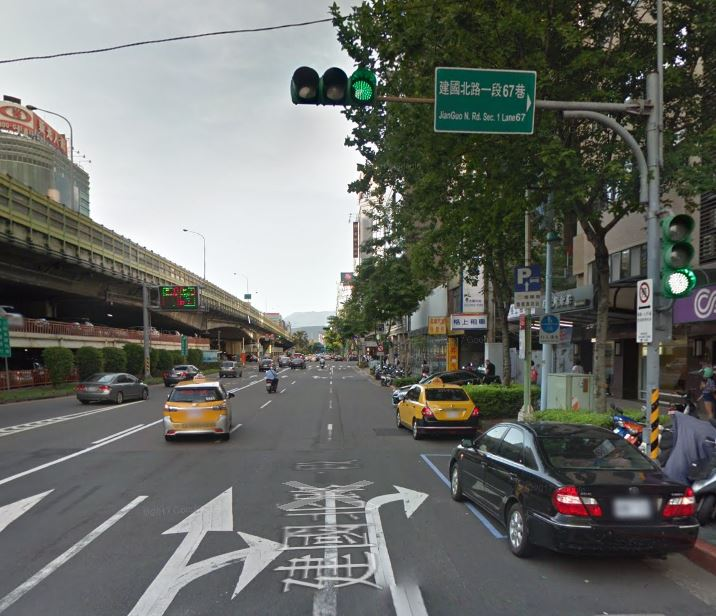Traffic_light_green: (287, 65, 379, 107)
car: (450, 417, 698, 567), (393, 376, 482, 441), (162, 374, 236, 446), (74, 367, 150, 405)
